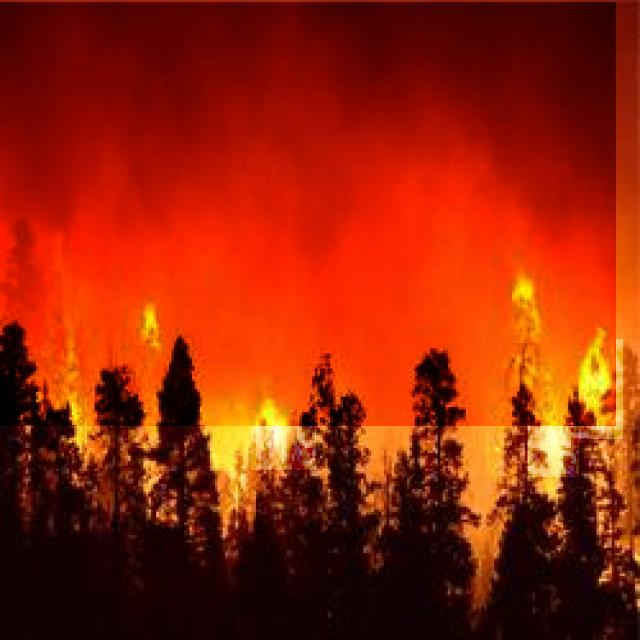Fire: (32, 338, 121, 464), (504, 259, 566, 354), (251, 396, 316, 470), (575, 339, 623, 439), (528, 424, 579, 477), (130, 296, 168, 359)
Smoke: (0, 2, 616, 426)
